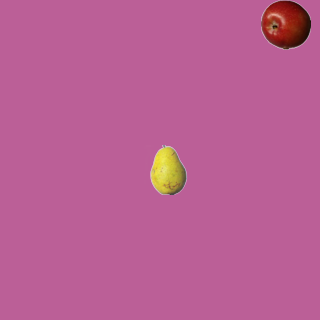Apple Braeburn: (260, 0, 310, 49)
Pear Monster: (143, 144, 193, 194)
